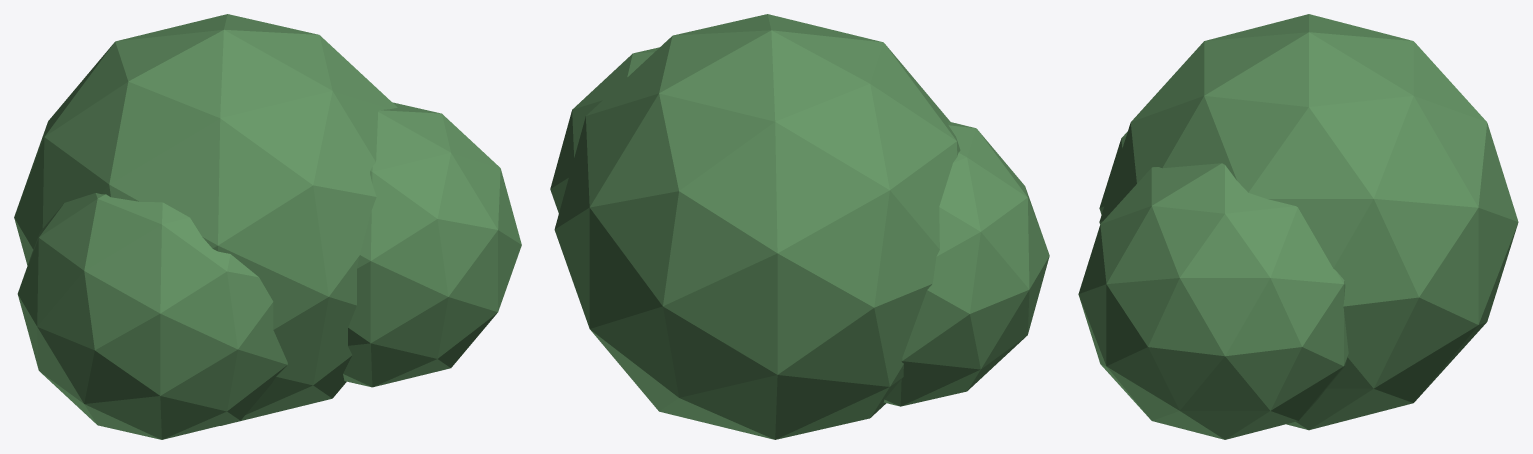
Rendered from env_bush.glb.
The picture shows the model from 3 angles, left to right: view 1: azimuth 30°, elevation 25°; view 2: azimuth 150°, elevation 25°; view 3: azimuth 270°, elevation 25°; orthographic projection. The views are drawn at different scales.
Visible parts, largest first — view 1: world; view 2: world; view 3: world.
Part boxes in pixels (box(x1,y1,x2,y2)): world: box(14, 14, 521, 439); world: box(550, 14, 1049, 439); world: box(1078, 14, 1518, 439).
Bounding box in the file's own units: 1.25 × 1 × 1.05.
